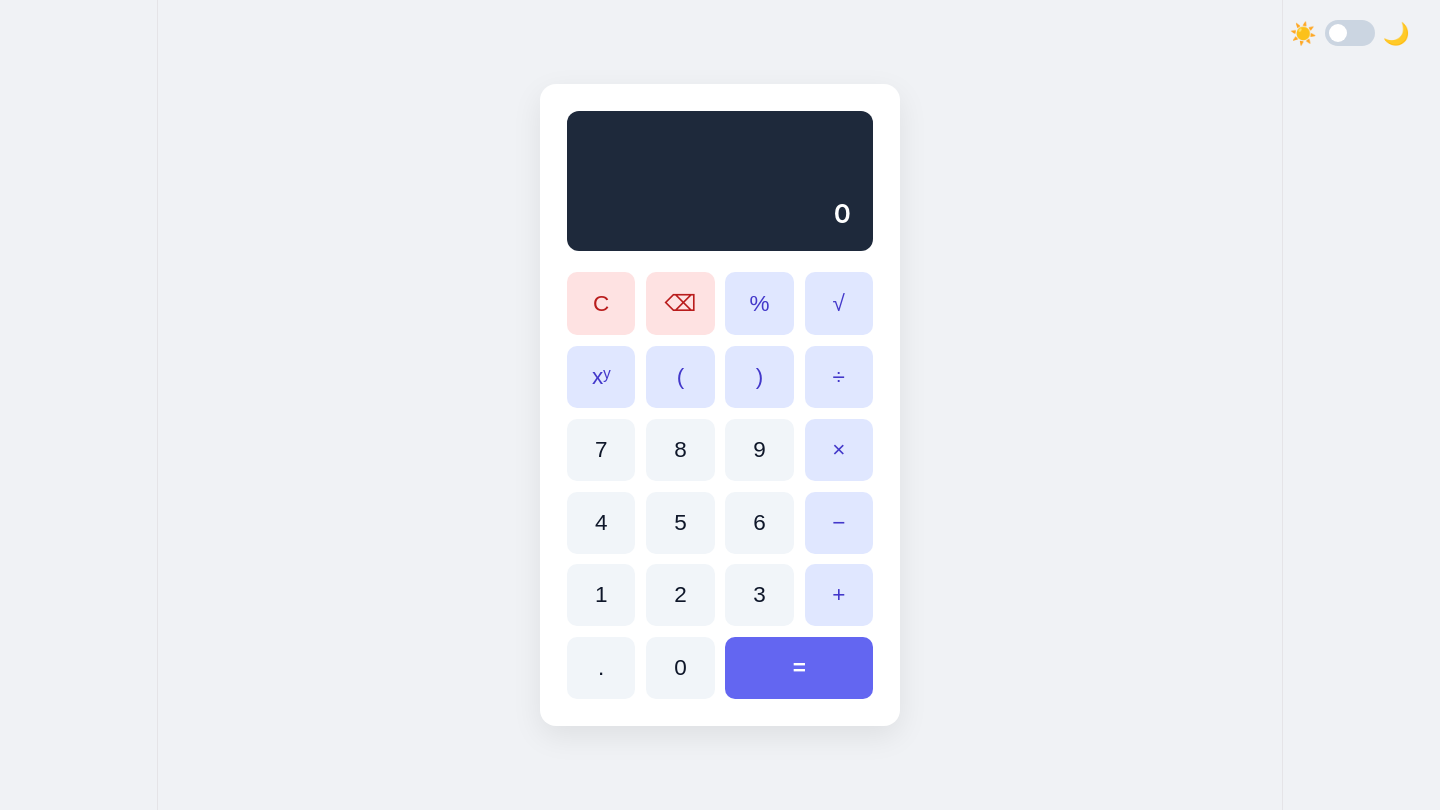
Test: Scientific Calculator Component › clears the entire display on Clear (C)
Click the button "9": {"x": 760, "y": 450} [725,419,794,481]
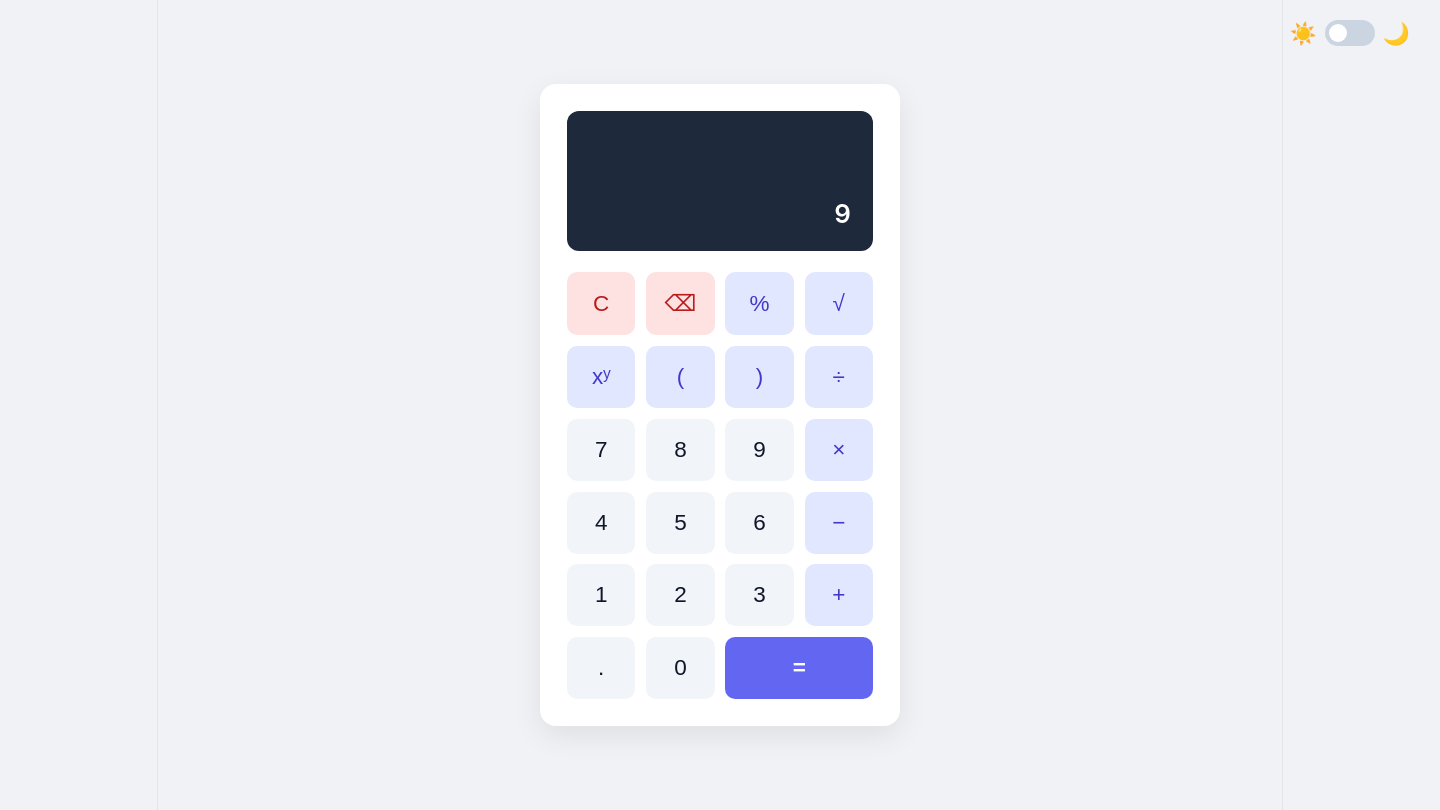
Click the button "+": {"x": 839, "y": 596} [805,564,873,626]
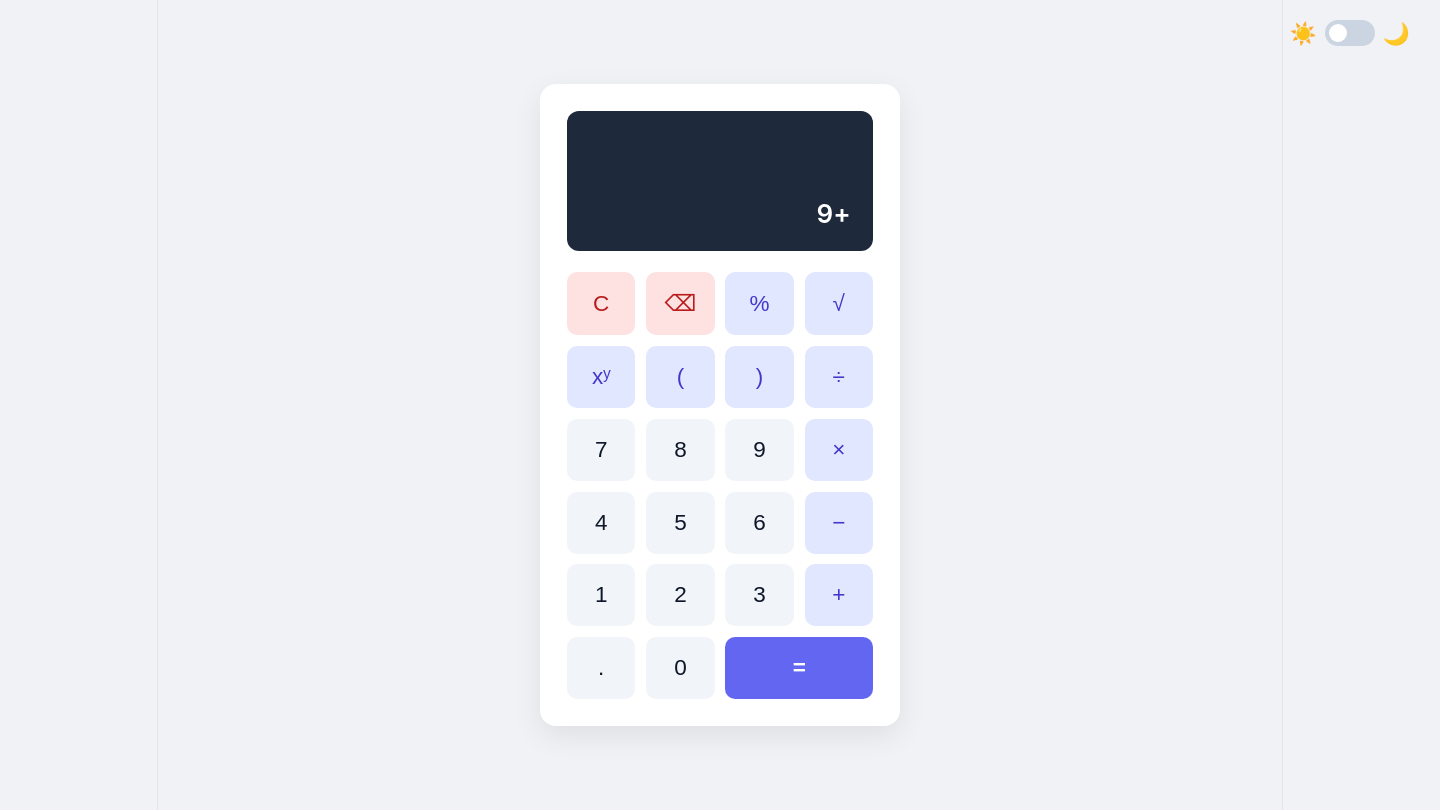
Click the button "5": {"x": 680, "y": 523} [646,492,715,554]
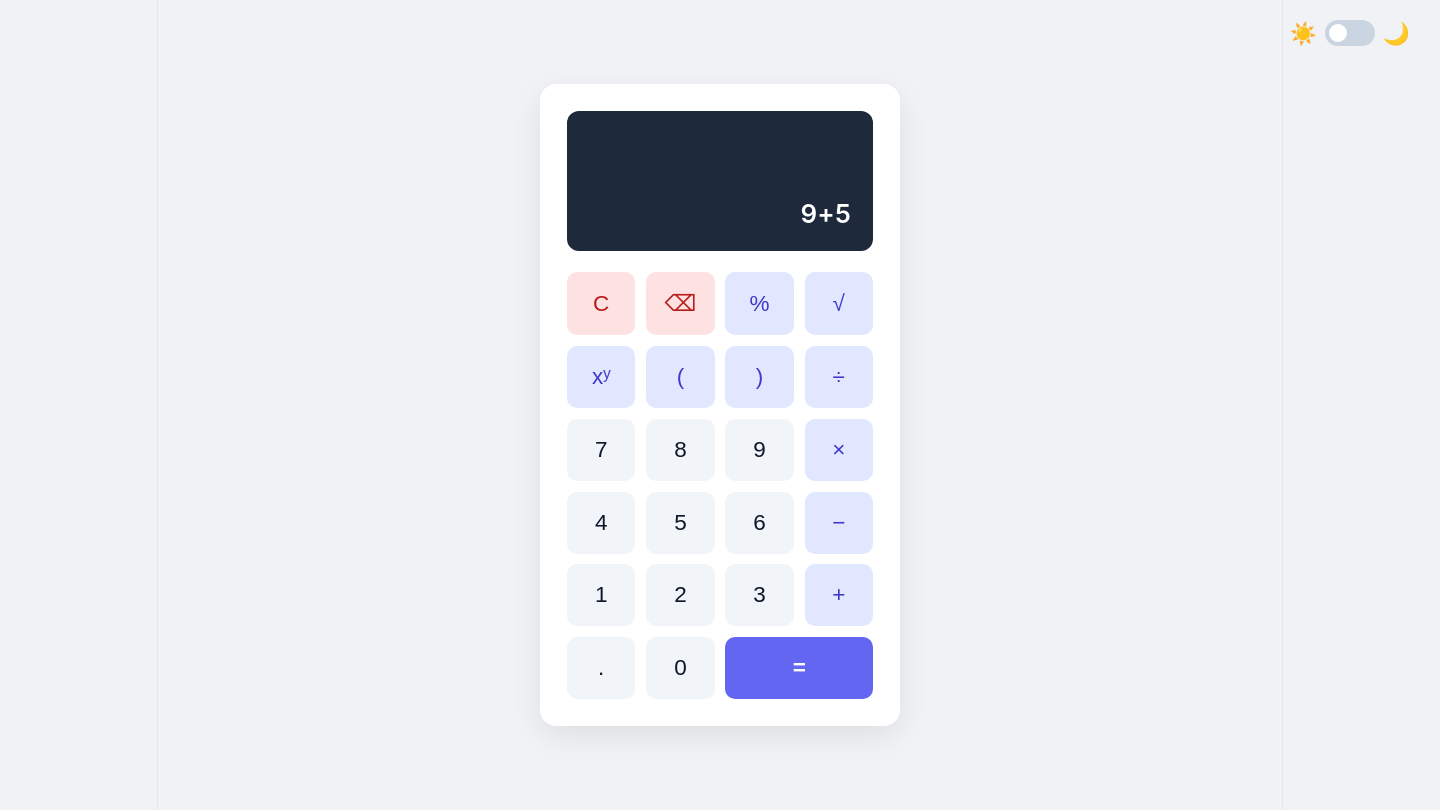
Check: the text with test id "display" reads "9+5", box [800,198,851,229]
Click the button "C": {"x": 601, "y": 304} [567,272,635,335]
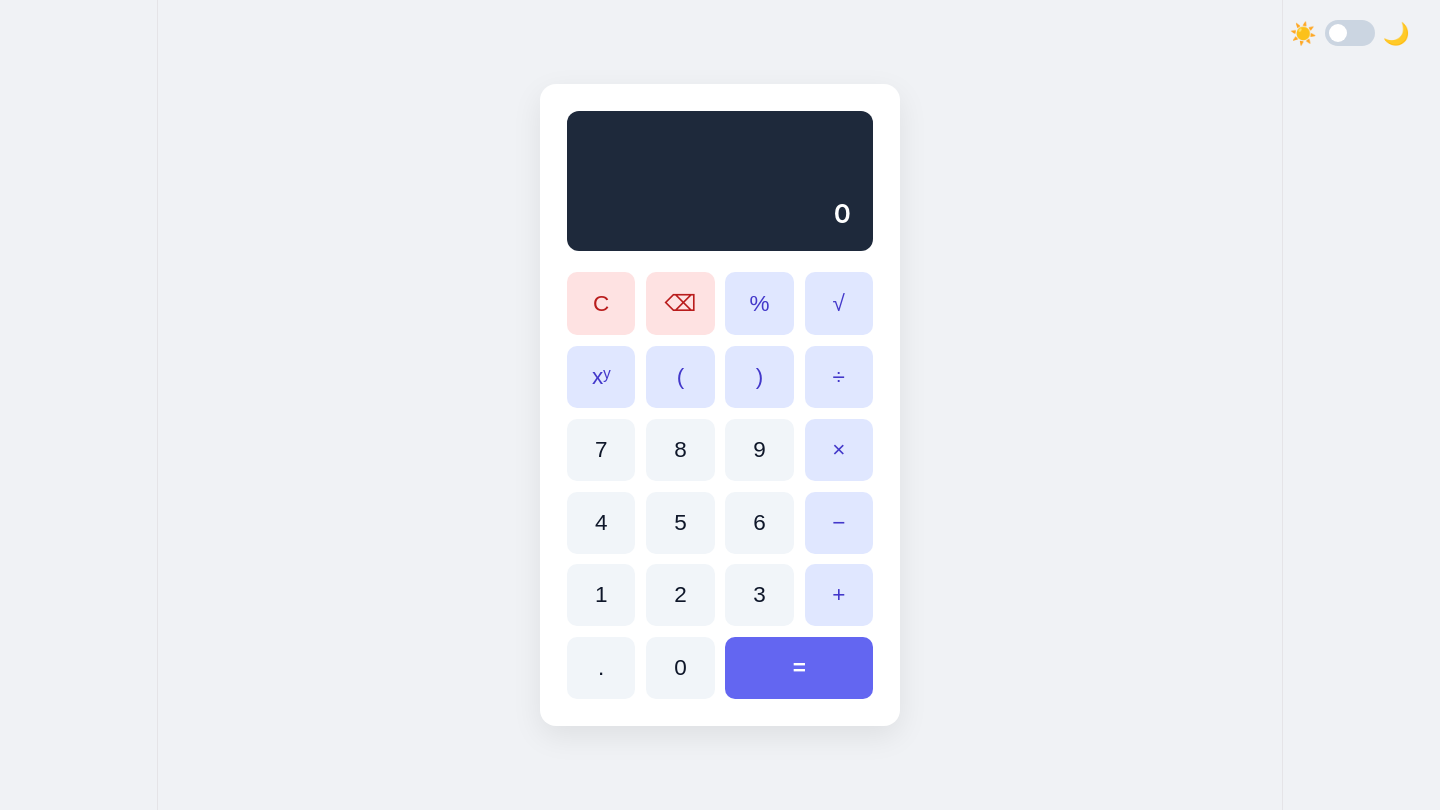
Check: the text with test id "display" reads "0", box [834,198,851,229]
